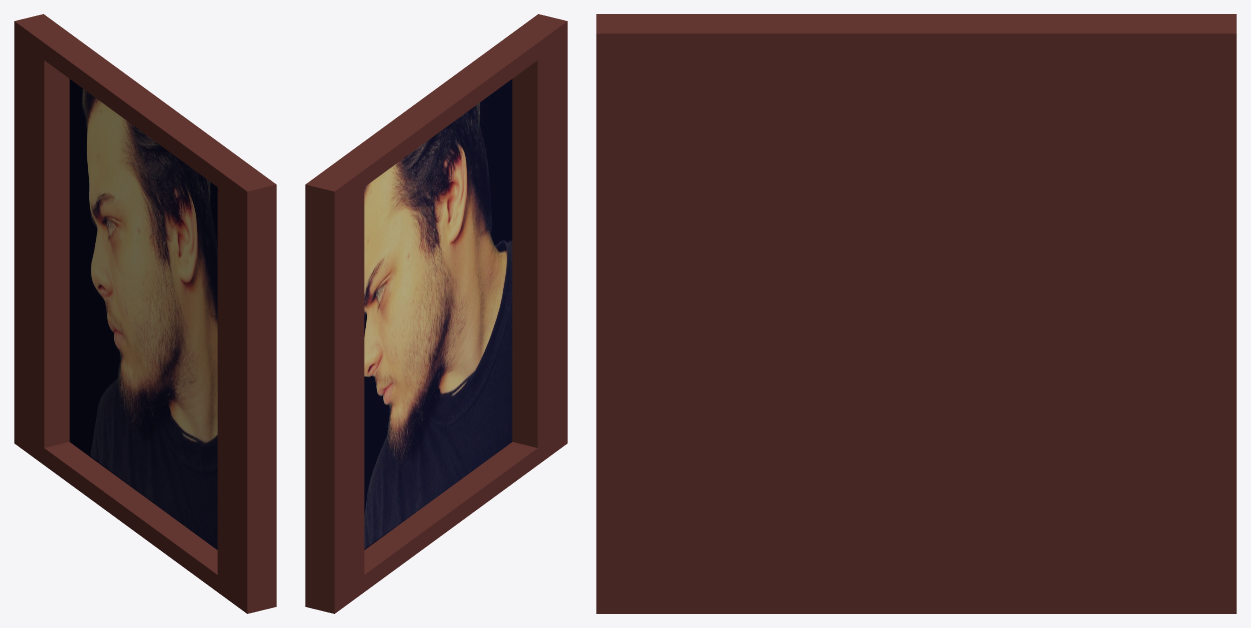
Rendered from Portrait10.fbx.
The picture shows the model from 3 angles, left to right: view 1: azimuth 30°, elevation 25°; view 2: azimuth 150°, elevation 25°; view 3: azimuth 270°, elevation 25°; orthographic projection. The views are drawn at different scales.
Visible parts, largest first — view 1: Cube.110; view 2: Cube.110; view 3: Cube.110.
Part boxes in pixels (x1=…): Cube.110: x1=14, y1=14, x2=276, y2=613; Cube.110: x1=305, y1=14, x2=567, y2=613; Cube.110: x1=596, y1=14, x2=1236, y2=613.
Size of the model in its own units: 24.28 by 335 by 335.
